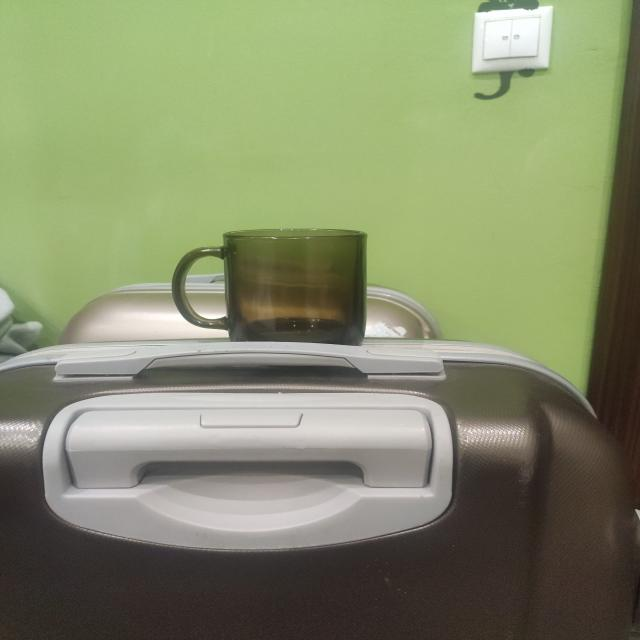cups: (171, 229, 367, 346)
